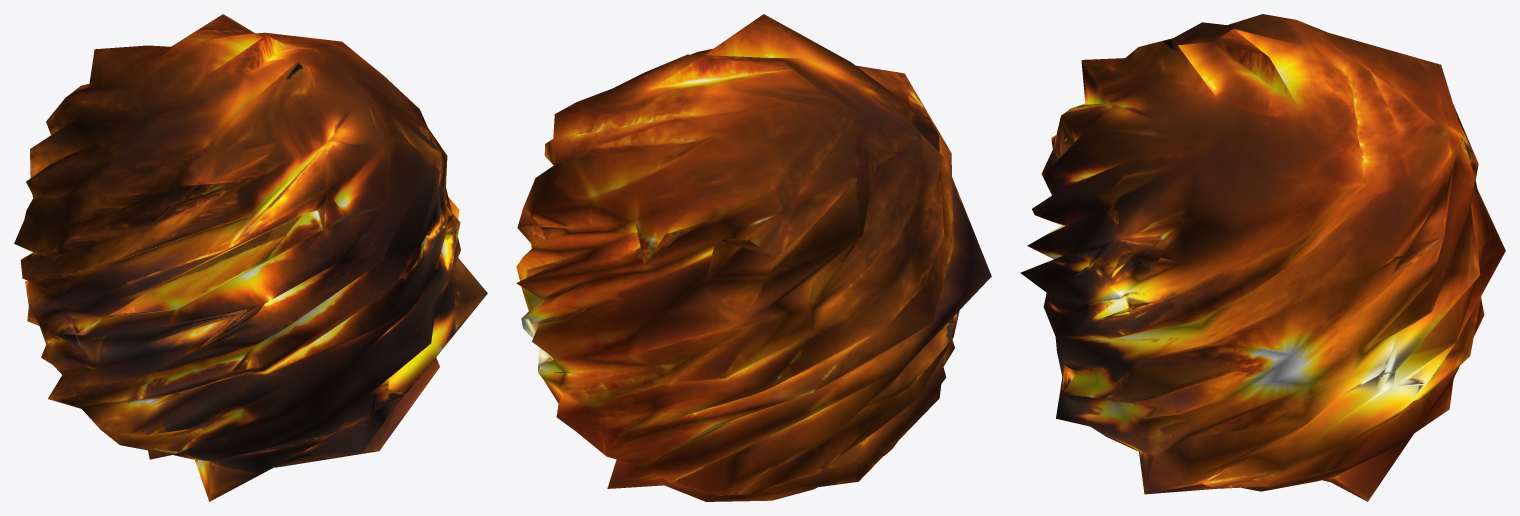
Rendered from fireball.glb.
The picture shows the model from 3 angles, left to right: view 1: azimuth 30°, elevation 25°; view 2: azimuth 150°, elevation 25°; view 3: azimuth 270°, elevation 25°; orthographic projection. The views are drawn at different scales.
Bounding box in the file's own units: 2 × 1.96 × 1.94.
1 material, 1 textured.
